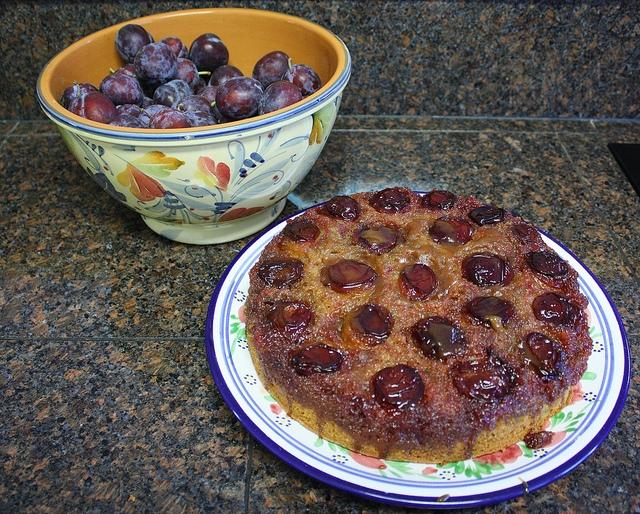grape: (134, 42, 178, 90), (216, 77, 264, 120), (68, 90, 119, 124), (189, 37, 228, 80), (258, 80, 302, 115), (99, 74, 144, 108), (282, 58, 322, 96), (253, 50, 289, 91), (114, 24, 150, 64), (109, 64, 149, 96), (170, 94, 218, 120), (61, 80, 98, 110), (147, 107, 192, 129), (173, 58, 200, 92), (197, 86, 222, 122), (207, 65, 244, 87), (138, 104, 170, 126), (158, 36, 182, 57), (116, 104, 142, 118)
